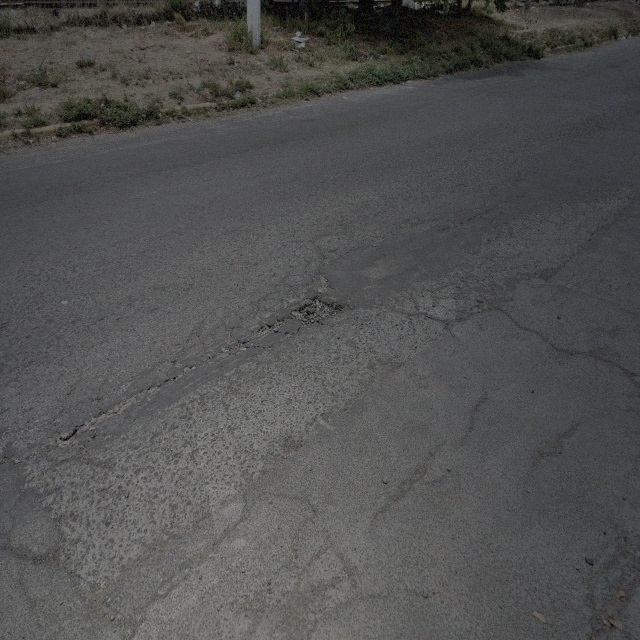pothole: (292, 292, 343, 330), (260, 315, 286, 339)
